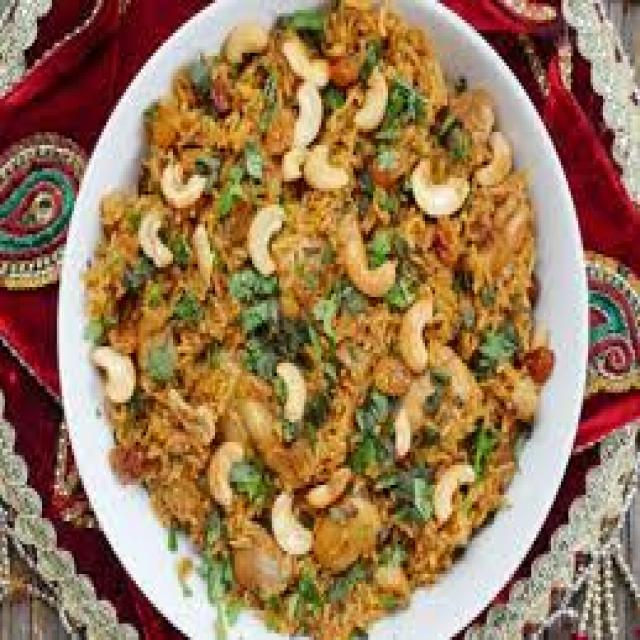Wet Waste: (89, 0, 558, 640)
